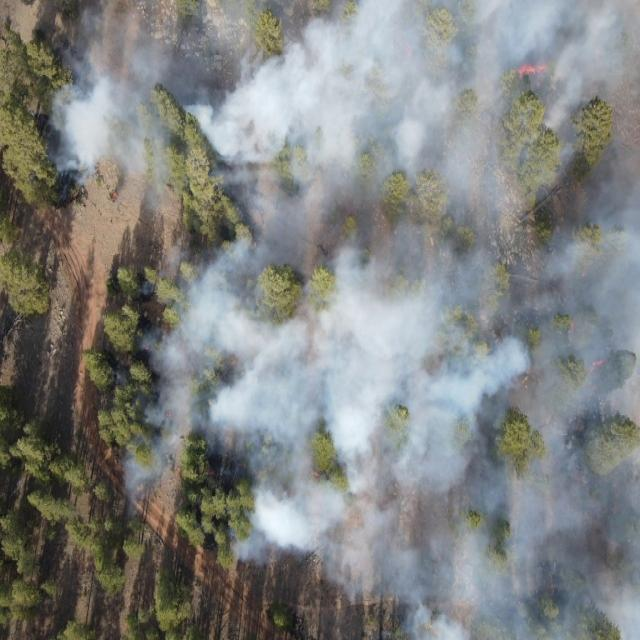fire: (517, 62, 551, 76), (404, 41, 416, 60), (590, 358, 606, 370), (312, 469, 323, 480), (568, 318, 576, 331), (110, 190, 119, 200), (580, 267, 588, 278), (165, 410, 173, 420), (252, 240, 258, 250)
smoke: (380, 172, 640, 640), (45, 0, 640, 172), (198, 174, 380, 565), (136, 246, 198, 448), (316, 566, 382, 604), (122, 448, 175, 488), (143, 172, 171, 212), (74, 172, 90, 187)
